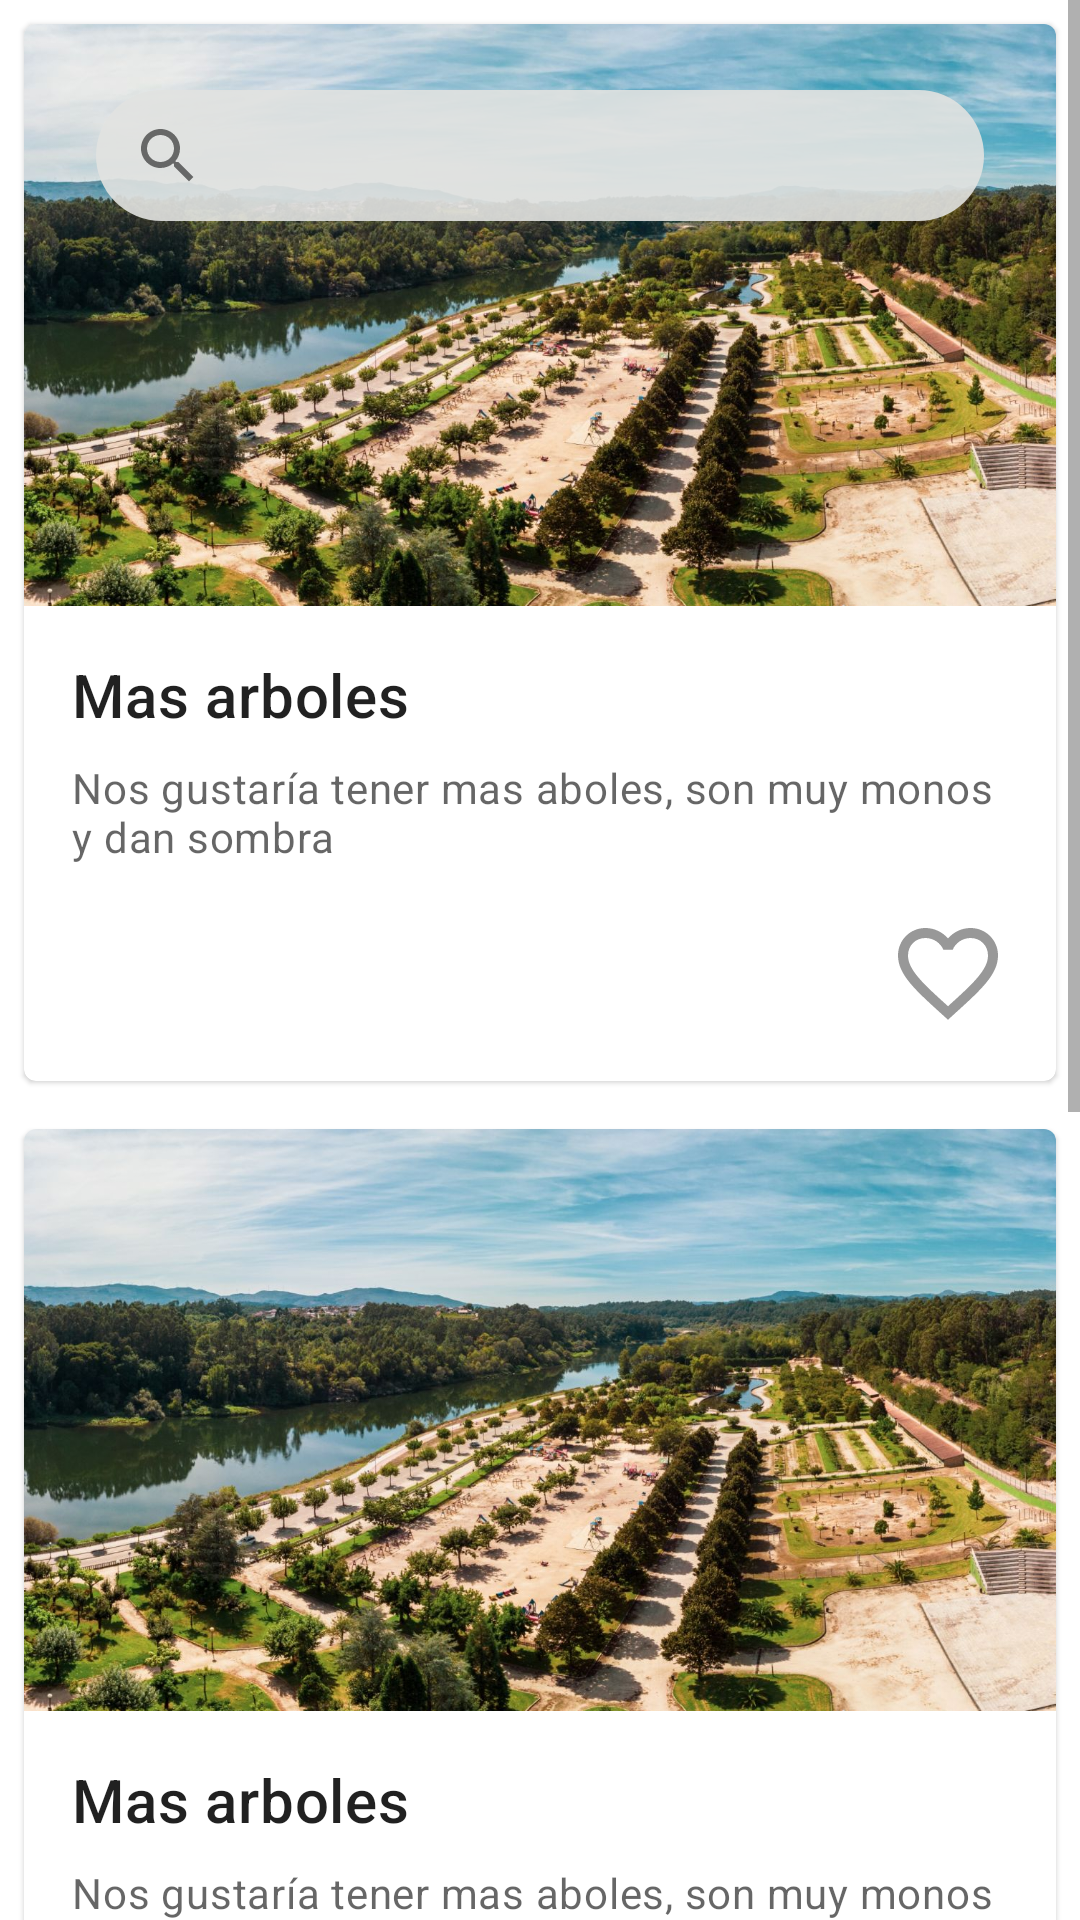

Icon bounding boxes for this 1080px×1920px phone screenshot, format box=[x1, y1, x2, y2]:
favorite border: box=[898, 928, 998, 1020]
